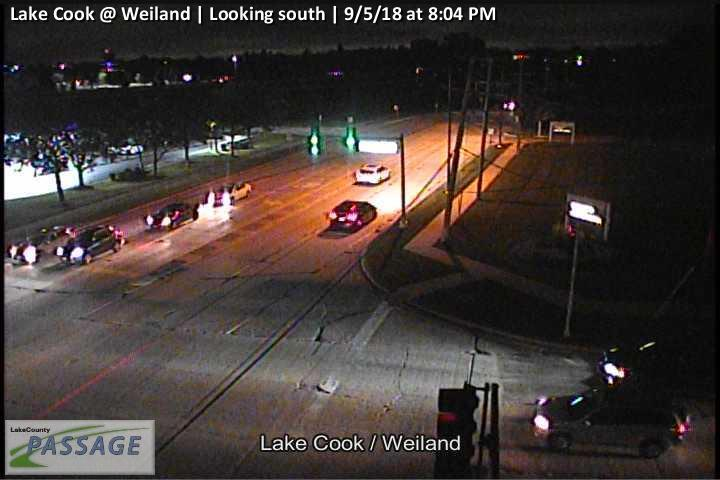SUV: (55, 224, 125, 265)
Sedan: (531, 389, 693, 457), (7, 225, 82, 264), (143, 201, 199, 229), (330, 199, 378, 231), (206, 180, 250, 206), (355, 163, 391, 182)
